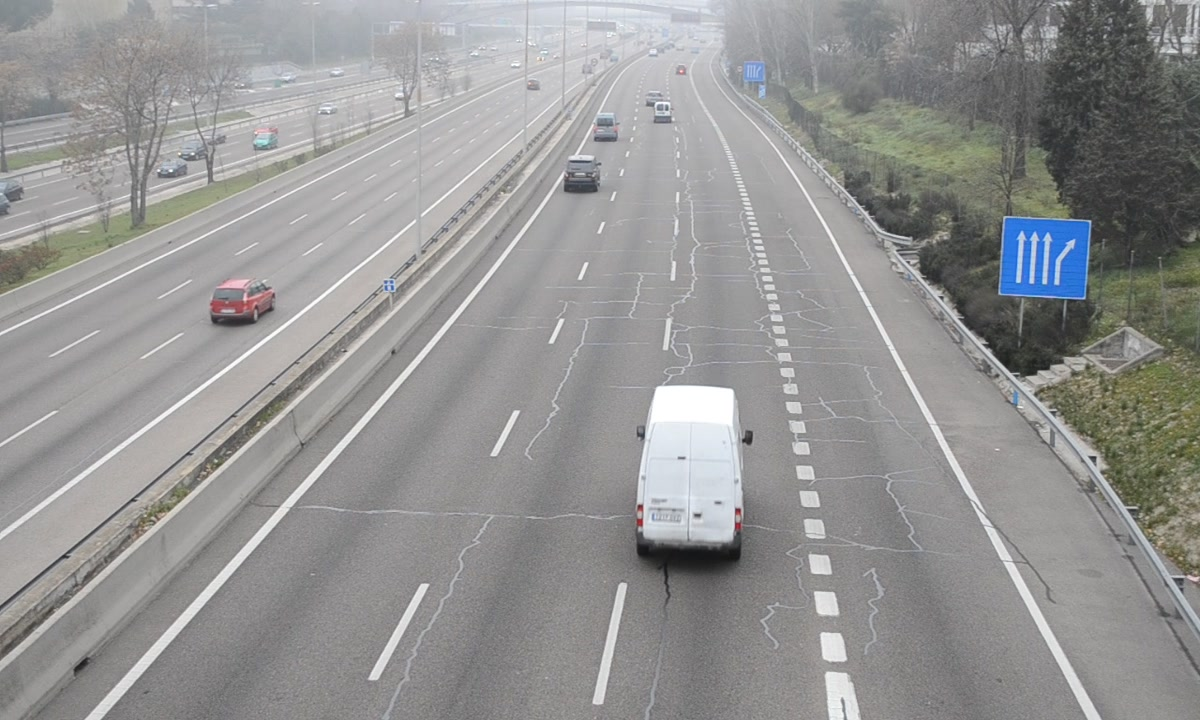car: (563, 155, 602, 194)
van: (633, 386, 744, 558), (593, 112, 619, 140)
